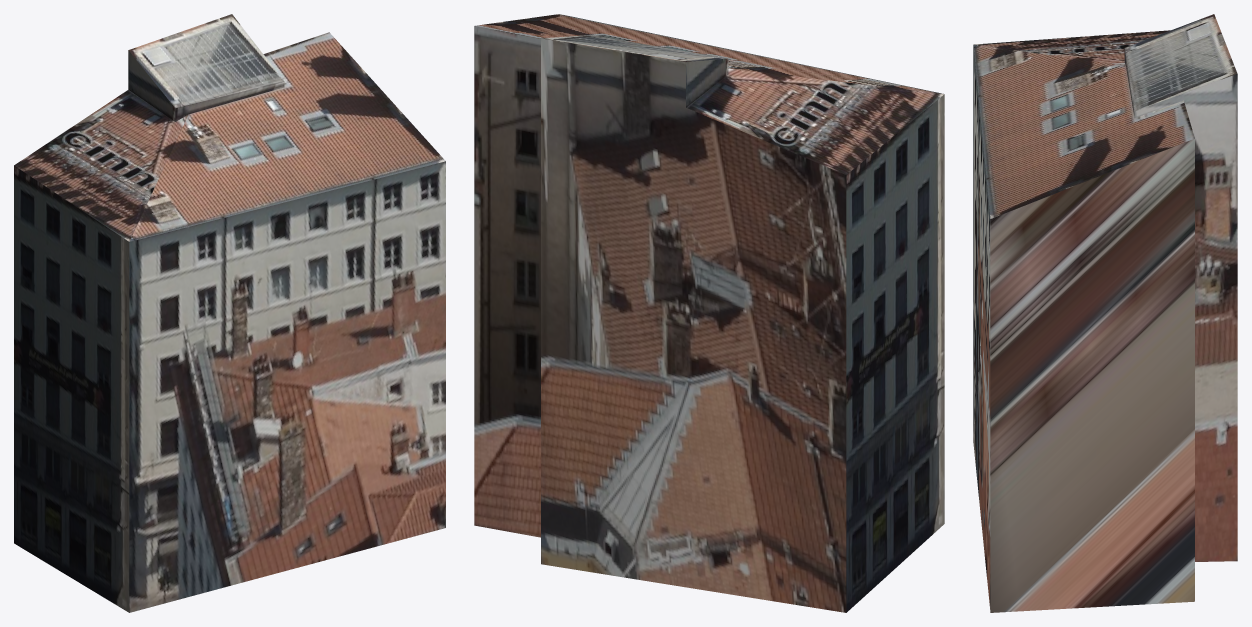
The picture shows the model from 3 angles, left to right: view 1: azimuth 30°, elevation 25°; view 2: azimuth 150°, elevation 25°; view 3: azimuth 270°, elevation 25°; orthographic projection. The views are drawn at different scales.
Visible parts, largest first — view 1: Z_UP; view 2: Z_UP; view 3: Z_UP.
Boxes of the visible parts, x1=… form: Z_UP: x1=14, y1=14, x2=445, y2=612; Z_UP: x1=474, y1=14, x2=944, y2=612; Z_UP: x1=973, y1=14, x2=1237, y2=612.
Size of the model in its own units: 21.23 by 27.11 by 13.31.
Materials: 2 (1 with a texture image).
